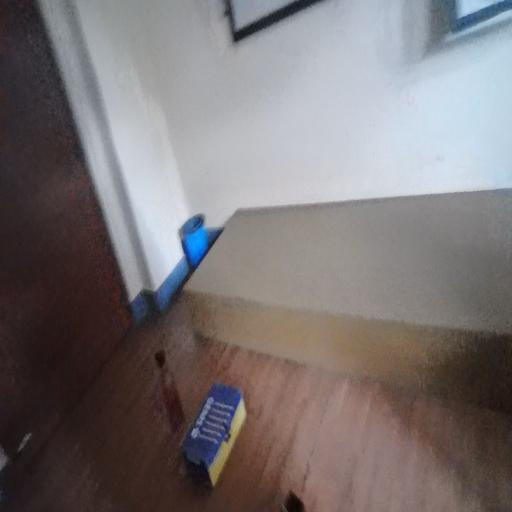Bottle: (155, 349, 186, 425)
